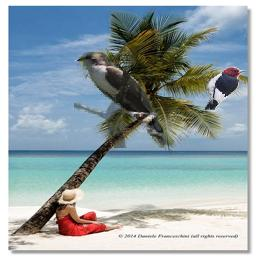Cuckoo: (75, 52, 176, 148)
Woodpecker: (205, 66, 247, 110)
